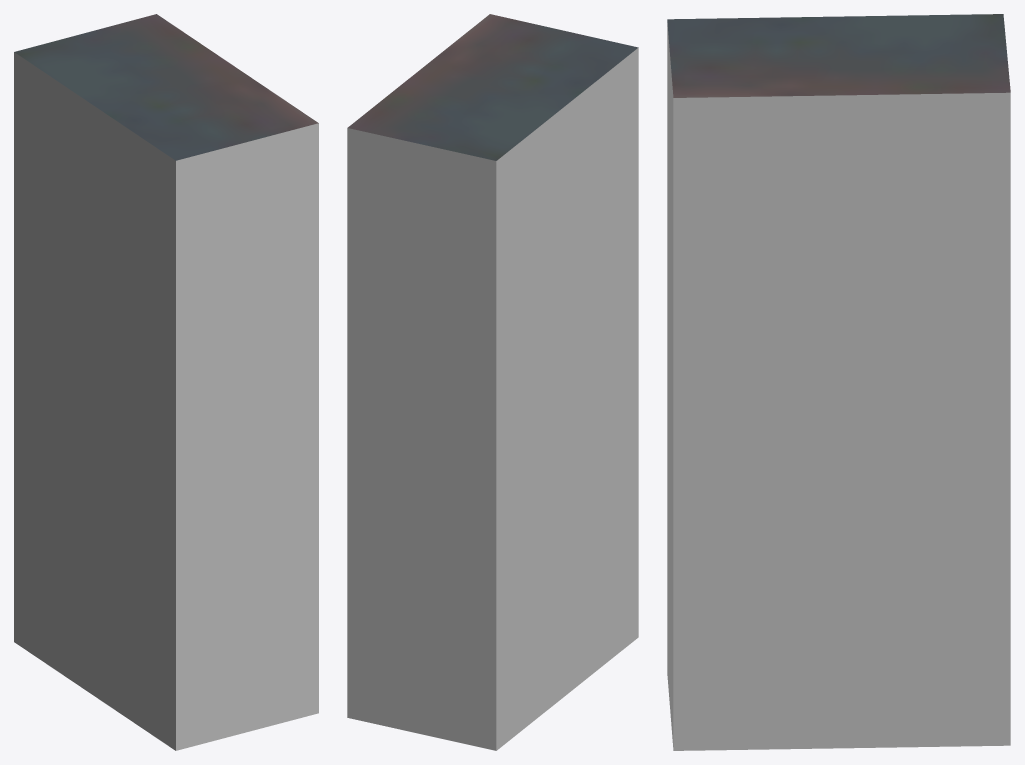
The model's file is DEBW_0010007THYo.gltf.
The picture shows the model from 3 angles, left to right: view 1: azimuth 30°, elevation 25°; view 2: azimuth 150°, elevation 25°; view 3: azimuth 270°, elevation 25°; orthographic projection. The views are drawn at different scales.
Visible parts, largest first — view 1: Z_UP; view 2: Z_UP; view 3: Z_UP.
Boxes of the visible parts, x1,y1,x2,y2 form: Z_UP: (14, 14, 318, 750); Z_UP: (347, 14, 638, 750); Z_UP: (667, 14, 1010, 750).
Bounding box in the file's own units: 1.91 × 6.92 × 3.3.
Materials: 2 (1 with a texture image).
